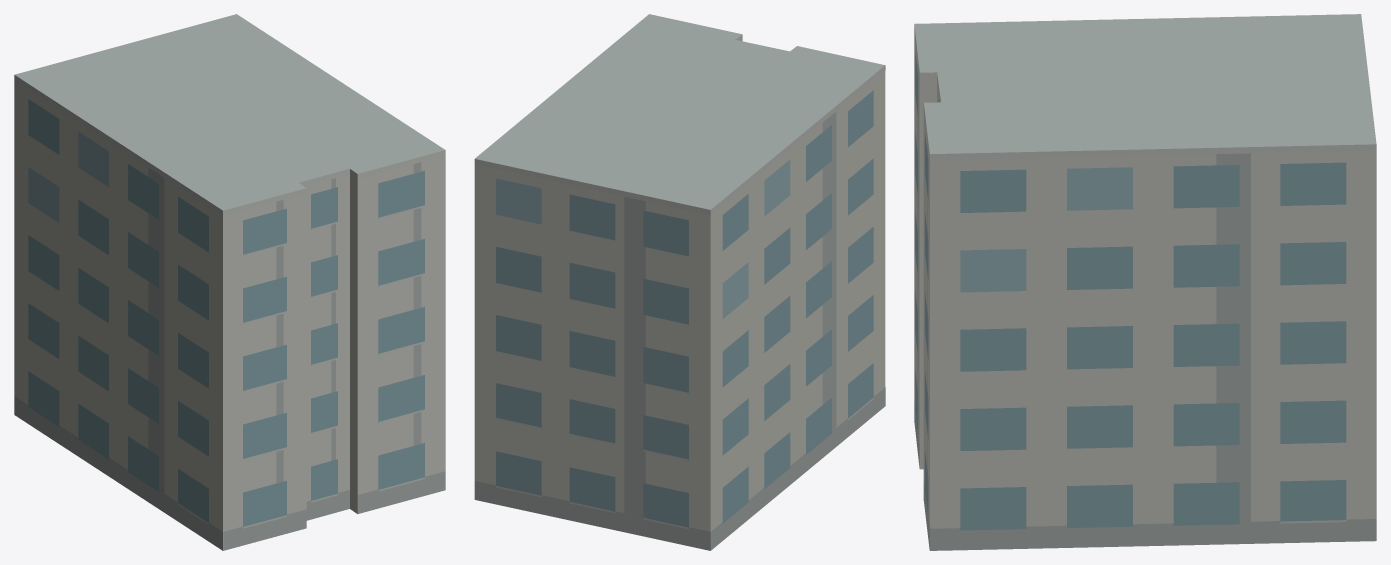
The model's file is survey-upis-32973584.glb.
3 views of the same model, side by side, from view 1: azimuth 30°, elevation 25°; view 2: azimuth 150°, elevation 25°; view 3: azimuth 270°, elevation 25° (orthographic). The views are drawn at different scales.
Parts seen in each view (by area): view 1: survey-upis-32973584.tmp; view 2: survey-upis-32973584.tmp; view 3: survey-upis-32973584.tmp.
Boxes of the visible parts, x1=… form: survey-upis-32973584.tmp: x1=14, y1=14, x2=445, y2=550; survey-upis-32973584.tmp: x1=474, y1=14, x2=885, y2=550; survey-upis-32973584.tmp: x1=914, y1=14, x2=1376, y2=550.
Size of the model in its own units: 11.56 by 15.25 by 16.11.
